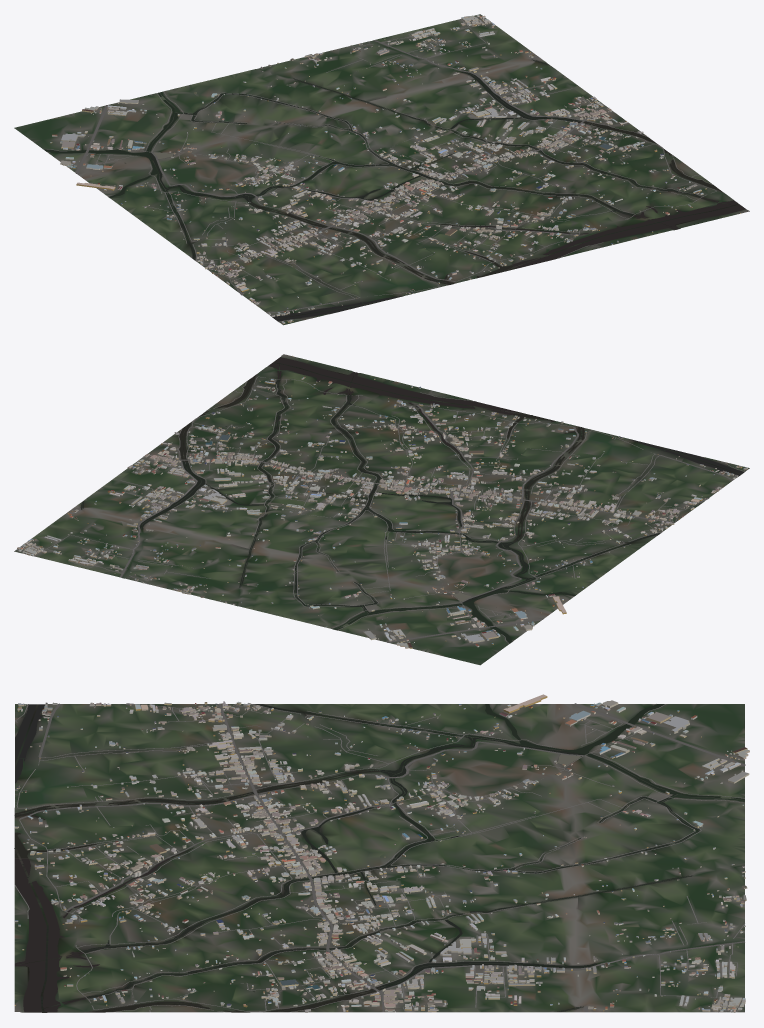
3 renders of one model, top to bottom at view 1: azimuth 30°, elevation 25°; view 2: azimuth 150°, elevation 25°; view 3: azimuth 270°, elevation 25°, orthographic. The views are drawn at different scales.
Parts seen in each view (by area): view 1: ground, buildings, water, roads; view 2: ground, buildings, water, roads; view 3: ground, buildings, water, roads.
Part boxes in pixels (x1,y1,x2,y2): ground: [14, 14, 749, 325]; buildings: [50, 15, 740, 324]; water: [44, 59, 745, 321]; roads: [43, 17, 716, 321]; ground: [14, 354, 749, 665]; buildings: [17, 356, 747, 648]; water: [80, 357, 744, 643]; roads: [17, 376, 744, 643]; ground: [14, 704, 744, 1012]; buildings: [14, 694, 749, 1012]; water: [14, 704, 744, 1012]; roads: [14, 703, 745, 1012].
Bounding box in the file's own units: 2877 × 22.3 × 2823.
